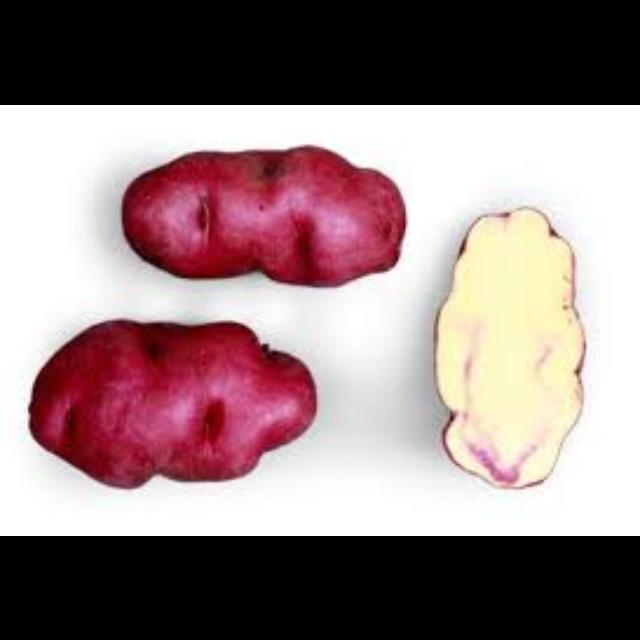Damaged potato: (24, 316, 318, 490), (119, 142, 409, 288)
